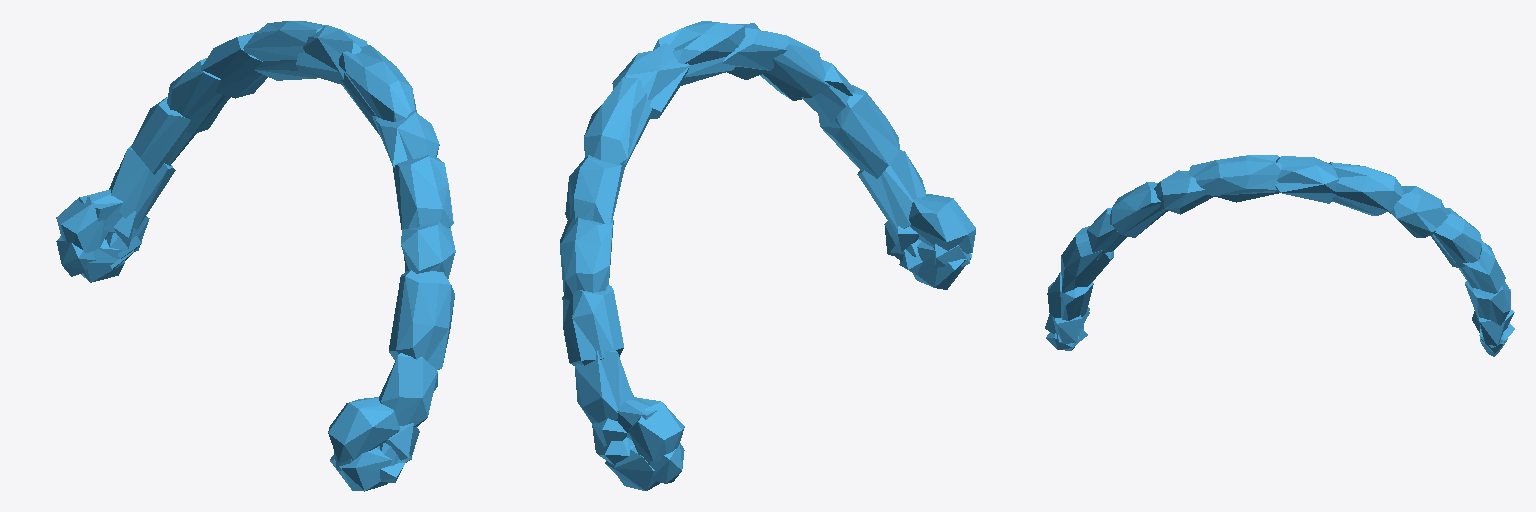
robot.urdf — partnet_39af8db4-de8a-4236-83dd-f2fbeea69b8e:
<?xml version="1.0" ?><robot name="partnet_39af8db4-de8a-4236-83dd-f2fbeea69b8e">
	<link name="base"/>
	<link name="link_0">
		<visual>
			<origin xyz="0.000158567152305189 -0.5549857087220849 0.0011067421202259498"/>
			<geometry>
				<mesh filename="new_objs/100441_link_0_23.obj"/>
			</geometry>
		</visual>
	<visual>
			<origin xyz="0.000158567152305189 -0.5549857087220849 0.0011067421202259498"/>
			<geometry>
				<mesh filename="new_objs/100441_link_0_9.obj"/>
			</geometry>
		</visual>
	<visual>
			<origin xyz="0.000158567152305189 -0.5549857087220849 0.0011067421202259498"/>
			<geometry>
				<mesh filename="new_objs/100441_link_0_22.obj"/>
			</geometry>
		</visual>
	<visual>
			<origin xyz="0.000158567152305189 -0.5549857087220849 0.0011067421202259498"/>
			<geometry>
				<mesh filename="new_objs/100441_link_0_18.obj"/>
			</geometry>
		</visual>
	<visual>
			<origin xyz="0.000158567152305189 -0.5549857087220849 0.0011067421202259498"/>
			<geometry>
				<mesh filename="new_objs/100441_link_0_19.obj"/>
			</geometry>
		</visual>
	<visual>
			<origin xyz="0.000158567152305189 -0.5549857087220849 0.0011067421202259498"/>
			<geometry>
				<mesh filename="new_objs/100441_link_0_20.obj"/>
			</geometry>
		</visual>
	<visual>
			<origin xyz="0.000158567152305189 -0.5549857087220849 0.0011067421202259498"/>
			<geometry>
				<mesh filename="new_objs/100441_link_0_2.obj"/>
			</geometry>
		</visual>
	<visual>
			<origin xyz="0.000158567152305189 -0.5549857087220849 0.0011067421202259498"/>
			<geometry>
				<mesh filename="new_objs/100441_link_0_11.obj"/>
			</geometry>
		</visual>
	<visual>
			<origin xyz="0.000158567152305189 -0.5549857087220849 0.0011067421202259498"/>
			<geometry>
				<mesh filename="new_objs/100441_link_0_21.obj"/>
			</geometry>
		</visual>
	<visual>
			<origin xyz="0.000158567152305189 -0.5549857087220849 0.0011067421202259498"/>
			<geometry>
				<mesh filename="new_objs/100441_link_0_0.obj"/>
			</geometry>
		</visual>
	<visual>
			<origin xyz="0.000158567152305189 -0.5549857087220849 0.0011067421202259498"/>
			<geometry>
				<mesh filename="new_objs/100441_link_0_5.obj"/>
			</geometry>
		</visual>
	<visual>
			<origin xyz="0.000158567152305189 -0.5549857087220849 0.0011067421202259498"/>
			<geometry>
				<mesh filename="new_objs/100441_link_0_12.obj"/>
			</geometry>
		</visual>
	<visual>
			<origin xyz="0.000158567152305189 -0.5549857087220849 0.0011067421202259498"/>
			<geometry>
				<mesh filename="new_objs/100441_link_0_16.obj"/>
			</geometry>
		</visual>
	<visual>
			<origin xyz="0.000158567152305189 -0.5549857087220849 0.0011067421202259498"/>
			<geometry>
				<mesh filename="new_objs/100441_link_0_4.obj"/>
			</geometry>
		</visual>
	<visual>
			<origin xyz="0.000158567152305189 -0.5549857087220849 0.0011067421202259498"/>
			<geometry>
				<mesh filename="new_objs/100441_link_0_7.obj"/>
			</geometry>
		</visual>
	<visual>
			<origin xyz="0.000158567152305189 -0.5549857087220849 0.0011067421202259498"/>
			<geometry>
				<mesh filename="new_objs/100441_link_0_17.obj"/>
			</geometry>
		</visual>
	<visual>
			<origin xyz="0.000158567152305189 -0.5549857087220849 0.0011067421202259498"/>
			<geometry>
				<mesh filename="new_objs/100441_link_0_3.obj"/>
			</geometry>
		</visual>
	<visual>
			<origin xyz="0.000158567152305189 -0.5549857087220849 0.0011067421202259498"/>
			<geometry>
				<mesh filename="new_objs/100441_link_0_14.obj"/>
			</geometry>
		</visual>
	<visual>
			<origin xyz="0.000158567152305189 -0.5549857087220849 0.0011067421202259498"/>
			<geometry>
				<mesh filename="new_objs/100441_link_0_1.obj"/>
			</geometry>
		</visual>
	<visual>
			<origin xyz="0.000158567152305189 -0.5549857087220849 0.0011067421202259498"/>
			<geometry>
				<mesh filename="new_objs/100441_link_0_6.obj"/>
			</geometry>
		</visual>
	<visual>
			<origin xyz="0.000158567152305189 -0.5549857087220849 0.0011067421202259498"/>
			<geometry>
				<mesh filename="new_objs/100441_link_0_13.obj"/>
			</geometry>
		</visual>
	<visual>
			<origin xyz="0.000158567152305189 -0.5549857087220849 0.0011067421202259498"/>
			<geometry>
				<mesh filename="new_objs/100441_link_0_8.obj"/>
			</geometry>
		</visual>
	<visual>
			<origin xyz="0.000158567152305189 -0.5549857087220849 0.0011067421202259498"/>
			<geometry>
				<mesh filename="new_objs/100441_link_0_10.obj"/>
			</geometry>
		</visual>
	<visual>
			<origin xyz="0.000158567152305189 -0.5549857087220849 0.0011067421202259498"/>
			<geometry>
				<mesh filename="new_objs/100441_link_0_15.obj"/>
			</geometry>
		</visual>
	<visual>
			<origin xyz="0.000158567152305189 -0.5549857087220849 0.0011067421202259498"/>
			<geometry>
				<mesh filename="new_objs/100441_link_0_24.obj"/>
			</geometry>
		</visual>
	
		<collision>
			<origin xyz="0.000158567152305189 -0.5549857087220849 0.0011067421202259498"/>
			<geometry>
				<mesh filename="new_objs/100441_link_0_23.obj"/>
			</geometry>
		</collision><collision>
			<origin xyz="0.000158567152305189 -0.5549857087220849 0.0011067421202259498"/>
			<geometry>
				<mesh filename="new_objs/100441_link_0_9.obj"/>
			</geometry>
		</collision><collision>
			<origin xyz="0.000158567152305189 -0.5549857087220849 0.0011067421202259498"/>
			<geometry>
				<mesh filename="new_objs/100441_link_0_22.obj"/>
			</geometry>
		</collision><collision>
			<origin xyz="0.000158567152305189 -0.5549857087220849 0.0011067421202259498"/>
			<geometry>
				<mesh filename="new_objs/100441_link_0_18.obj"/>
			</geometry>
		</collision><collision>
			<origin xyz="0.000158567152305189 -0.5549857087220849 0.0011067421202259498"/>
			<geometry>
				<mesh filename="new_objs/100441_link_0_19.obj"/>
			</geometry>
		</collision><collision>
			<origin xyz="0.000158567152305189 -0.5549857087220849 0.0011067421202259498"/>
			<geometry>
				<mesh filename="new_objs/100441_link_0_20.obj"/>
			</geometry>
		</collision><collision>
			<origin xyz="0.000158567152305189 -0.5549857087220849 0.0011067421202259498"/>
			<geometry>
				<mesh filename="new_objs/100441_link_0_2.obj"/>
			</geometry>
		</collision><collision>
			<origin xyz="0.000158567152305189 -0.5549857087220849 0.0011067421202259498"/>
			<geometry>
				<mesh filename="new_objs/100441_link_0_11.obj"/>
			</geometry>
		</collision><collision>
			<origin xyz="0.000158567152305189 -0.5549857087220849 0.0011067421202259498"/>
			<geometry>
				<mesh filename="new_objs/100441_link_0_21.obj"/>
			</geometry>
		</collision><collision>
			<origin xyz="0.000158567152305189 -0.5549857087220849 0.0011067421202259498"/>
			<geometry>
				<mesh filename="new_objs/100441_link_0_0.obj"/>
			</geometry>
		</collision><collision>
			<origin xyz="0.000158567152305189 -0.5549857087220849 0.0011067421202259498"/>
			<geometry>
				<mesh filename="new_objs/100441_link_0_5.obj"/>
			</geometry>
		</collision><collision>
			<origin xyz="0.000158567152305189 -0.5549857087220849 0.0011067421202259498"/>
			<geometry>
				<mesh filename="new_objs/100441_link_0_12.obj"/>
			</geometry>
		</collision><collision>
			<origin xyz="0.000158567152305189 -0.5549857087220849 0.0011067421202259498"/>
			<geometry>
				<mesh filename="new_objs/100441_link_0_16.obj"/>
			</geometry>
		</collision><collision>
			<origin xyz="0.000158567152305189 -0.5549857087220849 0.0011067421202259498"/>
			<geometry>
				<mesh filename="new_objs/100441_link_0_4.obj"/>
			</geometry>
		</collision><collision>
			<origin xyz="0.000158567152305189 -0.5549857087220849 0.0011067421202259498"/>
			<geometry>
				<mesh filename="new_objs/100441_link_0_7.obj"/>
			</geometry>
		</collision><collision>
			<origin xyz="0.000158567152305189 -0.5549857087220849 0.0011067421202259498"/>
			<geometry>
				<mesh filename="new_objs/100441_link_0_17.obj"/>
			</geometry>
		</collision><collision>
			<origin xyz="0.000158567152305189 -0.5549857087220849 0.0011067421202259498"/>
			<geometry>
				<mesh filename="new_objs/100441_link_0_3.obj"/>
			</geometry>
		</collision><collision>
			<origin xyz="0.000158567152305189 -0.5549857087220849 0.0011067421202259498"/>
			<geometry>
				<mesh filename="new_objs/100441_link_0_14.obj"/>
			</geometry>
		</collision><collision>
			<origin xyz="0.000158567152305189 -0.5549857087220849 0.0011067421202259498"/>
			<geometry>
				<mesh filename="new_objs/100441_link_0_1.obj"/>
			</geometry>
		</collision><collision>
			<origin xyz="0.000158567152305189 -0.5549857087220849 0.0011067421202259498"/>
			<geometry>
				<mesh filename="new_objs/100441_link_0_6.obj"/>
			</geometry>
		</collision><collision>
			<origin xyz="0.000158567152305189 -0.5549857087220849 0.0011067421202259498"/>
			<geometry>
				<mesh filename="new_objs/100441_link_0_13.obj"/>
			</geometry>
		</collision><collision>
			<origin xyz="0.000158567152305189 -0.5549857087220849 0.0011067421202259498"/>
			<geometry>
				<mesh filename="new_objs/100441_link_0_8.obj"/>
			</geometry>
		</collision><collision>
			<origin xyz="0.000158567152305189 -0.5549857087220849 0.0011067421202259498"/>
			<geometry>
				<mesh filename="new_objs/100441_link_0_10.obj"/>
			</geometry>
		</collision><collision>
			<origin xyz="0.000158567152305189 -0.5549857087220849 0.0011067421202259498"/>
			<geometry>
				<mesh filename="new_objs/100441_link_0_15.obj"/>
			</geometry>
		</collision><collision>
			<origin xyz="0.000158567152305189 -0.5549857087220849 0.0011067421202259498"/>
			<geometry>
				<mesh filename="new_objs/100441_link_0_24.obj"/>
			</geometry>
		</collision></link>
	<joint name="joint_0" type="revolute">
		<origin xyz="-0.000158567152305189 0.5549857087220849 -0.0011067421202259498"/>
		<axis xyz="1 0 0.02"/>
		<child link="link_0"/>
		<parent link="link_1"/>
		<limit lower="-6.283185307179586" upper="-2.5109645882716435"/>
	</joint>
	<link name="link_1">
		<collision>
			<origin xyz="0 0 0"/>
			<geometry>
				<mesh filename="new_objs/100441_link_1_7.obj"/>
			</geometry>
		</collision>
		<collision>
			<origin xyz="0 0 0"/>
			<geometry>
				<mesh filename="new_objs/100441_link_1_1.obj"/>
			</geometry>
		</collision>
		<collision>
			<origin xyz="0 0 0"/>
			<geometry>
				<mesh filename="new_objs/100441_link_1_21.obj"/>
			</geometry>
		</collision>
		<collision>
			<origin xyz="0 0 0"/>
			<geometry>
				<mesh filename="new_objs/100441_link_1_30.obj"/>
			</geometry>
		</collision>
		<collision>
			<origin xyz="0 0 0"/>
			<geometry>
				<mesh filename="new_objs/100441_link_1_17.obj"/>
			</geometry>
		</collision>
		<collision>
			<origin xyz="0 0 0"/>
			<geometry>
				<mesh filename="new_objs/100441_link_1_22.obj"/>
			</geometry>
		</collision>
		<collision>
			<origin xyz="0 0 0"/>
			<geometry>
				<mesh filename="new_objs/100441_link_1_9.obj"/>
			</geometry>
		</collision>
		<collision>
			<origin xyz="0 0 0"/>
			<geometry>
				<mesh filename="new_objs/100441_link_1_28.obj"/>
			</geometry>
		</collision>
		<collision>
			<origin xyz="0 0 0"/>
			<geometry>
				<mesh filename="new_objs/100441_link_1_25.obj"/>
			</geometry>
		</collision>
		<collision>
			<origin xyz="0 0 0"/>
			<geometry>
				<mesh filename="new_objs/100441_link_1_6.obj"/>
			</geometry>
		</collision>
		<collision>
			<origin xyz="0 0 0"/>
			<geometry>
				<mesh filename="new_objs/100441_link_1_0.obj"/>
			</geometry>
		</collision>
		<collision>
			<origin xyz="0 0 0"/>
			<geometry>
				<mesh filename="new_objs/100441_link_1_5.obj"/>
			</geometry>
		</collision>
		<collision>
			<origin xyz="0 0 0"/>
			<geometry>
				<mesh filename="new_objs/100441_link_1_10.obj"/>
			</geometry>
		</collision>
		<collision>
			<origin xyz="0 0 0"/>
			<geometry>
				<mesh filename="new_objs/100441_link_1_4.obj"/>
			</geometry>
		</collision>
		<collision>
			<origin xyz="0 0 0"/>
			<geometry>
				<mesh filename="new_objs/100441_link_1_19.obj"/>
			</geometry>
		</collision>
		<collision>
			<origin xyz="0 0 0"/>
			<geometry>
				<mesh filename="new_objs/100441_link_1_31.obj"/>
			</geometry>
		</collision>
		<collision>
			<origin xyz="0 0 0"/>
			<geometry>
				<mesh filename="new_objs/100441_link_1_23.obj"/>
			</geometry>
		</collision>
		<collision>
			<origin xyz="0 0 0"/>
			<geometry>
				<mesh filename="new_objs/100441_link_1_14.obj"/>
			</geometry>
		</collision>
		<collision>
			<origin xyz="0 0 0"/>
			<geometry>
				<mesh filename="new_objs/100441_link_1_18.obj"/>
			</geometry>
		</collision>
		<collision>
			<origin xyz="0 0 0"/>
			<geometry>
				<mesh filename="new_objs/100441_link_1_15.obj"/>
			</geometry>
		</collision>
		<collision>
			<origin xyz="0 0 0"/>
			<geometry>
				<mesh filename="new_objs/100441_link_1_24.obj"/>
			</geometry>
		</collision>
		<collision>
			<origin xyz="0 0 0"/>
			<geometry>
				<mesh filename="new_objs/100441_link_1_33.obj"/>
			</geometry>
		</collision>
		<collision>
			<origin xyz="0 0 0"/>
			<geometry>
				<mesh filename="new_objs/100441_link_1_27.obj"/>
			</geometry>
		</collision>
		<collision>
			<origin xyz="0 0 0"/>
			<geometry>
				<mesh filename="new_objs/100441_link_1_3.obj"/>
			</geometry>
		</collision>
		<collision>
			<origin xyz="0 0 0"/>
			<geometry>
				<mesh filename="new_objs/100441_link_1_29.obj"/>
			</geometry>
		</collision>
		<collision>
			<origin xyz="0 0 0"/>
			<geometry>
				<mesh filename="new_objs/100441_link_1_35.obj"/>
			</geometry>
		</collision>
		<collision>
			<origin xyz="0 0 0"/>
			<geometry>
				<mesh filename="new_objs/100441_link_1_26.obj"/>
			</geometry>
		</collision>
		<collision>
			<origin xyz="0 0 0"/>
			<geometry>
				<mesh filename="new_objs/100441_link_1_12.obj"/>
			</geometry>
		</collision>
		<collision>
			<origin xyz="0 0 0"/>
			<geometry>
				<mesh filename="new_objs/100441_link_1_11.obj"/>
			</geometry>
		</collision>
		<collision>
			<origin xyz="0 0 0"/>
			<geometry>
				<mesh filename="new_objs/100441_link_1_20.obj"/>
			</geometry>
		</collision>
		<collision>
			<origin xyz="0 0 0"/>
			<geometry>
				<mesh filename="new_objs/100441_link_1_13.obj"/>
			</geometry>
		</collision>
		<collision>
			<origin xyz="0 0 0"/>
			<geometry>
				<mesh filename="new_objs/100441_link_1_34.obj"/>
			</geometry>
		</collision>
		<collision>
			<origin xyz="0 0 0"/>
			<geometry>
				<mesh filename="new_objs/100441_link_1_8.obj"/>
			</geometry>
		</collision>
		<collision>
			<origin xyz="0 0 0"/>
			<geometry>
				<mesh filename="new_objs/100441_link_1_2.obj"/>
			</geometry>
		</collision>
		<collision>
			<origin xyz="0 0 0"/>
			<geometry>
				<mesh filename="new_objs/100441_link_1_32.obj"/>
			</geometry>
		</collision>
		<collision>
			<origin xyz="0 0 0"/>
			<geometry>
				<mesh filename="new_objs/100441_link_1_16.obj"/>
			</geometry>
		</collision>
		<visual name="base_body-part[&quot;id]">
			<origin xyz="0 0 0"/>
			<geometry>
				<mesh filename="textured_objs/original-4.obj"/>
			</geometry>
		</visual>
		<visual name="base_body-part[&quot;id]">
			<origin xyz="0 0 0"/>
			<geometry>
				<mesh filename="textured_objs/original-3.obj"/>
			</geometry>
		</visual>
		<visual name="base_body-part[&quot;id]">
			<origin xyz="0 0 0"/>
			<geometry>
				<mesh filename="textured_objs/original-2.obj"/>
			</geometry>
		</visual>
		<visual name="base_body-part[&quot;id]">
			<origin xyz="0 0 0"/>
			<geometry>
				<mesh filename="textured_objs/original-8.obj"/>
			</geometry>
		</visual>
		<visual name="base_body-part[&quot;id]">
			<origin xyz="0 0 0"/>
			<geometry>
				<mesh filename="textured_objs/original-5.obj"/>
			</geometry>
		</visual>
		<visual name="base_body-part[&quot;id]">
			<origin xyz="0 0 0"/>
			<geometry>
				<mesh filename="textured_objs/original-6.obj"/>
			</geometry>
		</visual>
		<visual name="base_body-part[&quot;id]">
			<origin xyz="0 0 0"/>
			<geometry>
				<mesh filename="textured_objs/original-7.obj"/>
			</geometry>
		</visual>
		<visual name="base_body-part[&quot;id]">
			<origin xyz="0 0 0"/>
			<geometry>
				<mesh filename="textured_objs/original-1.obj"/>
			</geometry>
		</visual>
		</link>
	<joint name="joint_1" type="fixed">
		<origin rpy="1.570796326794897 0 -1.570796326794897" xyz="0 0 0"/>
		<child link="link_1"/>
		<parent link="base"/>
	</joint>
</robot>

--- What the picture shows (computed from the rendered views, not written in the file) ---
The picture shows the robot from 3 angles, left to right: view 1: azimuth 30°, elevation 25°; view 2: azimuth 150°, elevation 25°; view 3: azimuth 270°, elevation 25°; orthographic projection.
Model partnet_39af8db4-de8a-4236-83dd-f2fbeea69b8e with 3 links and 2 joints (1 revolute, 1 fixed), rooted at base, posed joints at zero except 1 at the middle of their limits (joint_0 = -4.4).
Visible links, largest first — view 1: link_0; view 2: link_0; view 3: link_0.
Boxes of the visible links, x1=… form: link_0: x1=56, y1=21, x2=455, y2=491; link_0: x1=560, y1=21, x2=975, y2=490; link_0: x1=1045, y1=155, x2=1514, y2=356.
Size in the robot's own frame: 0.6061 by 1.73 by 0.9625 metres.
25 mesh visuals loaded from 33 distinct referenced files (25 OBJ); not drawn: 8 (reference not matched to a file when rendering).
